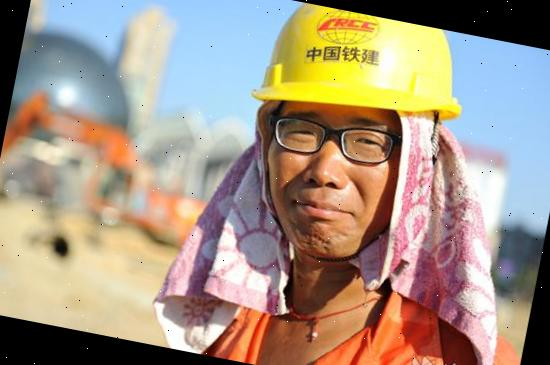helmet: (250, 0, 476, 129)
